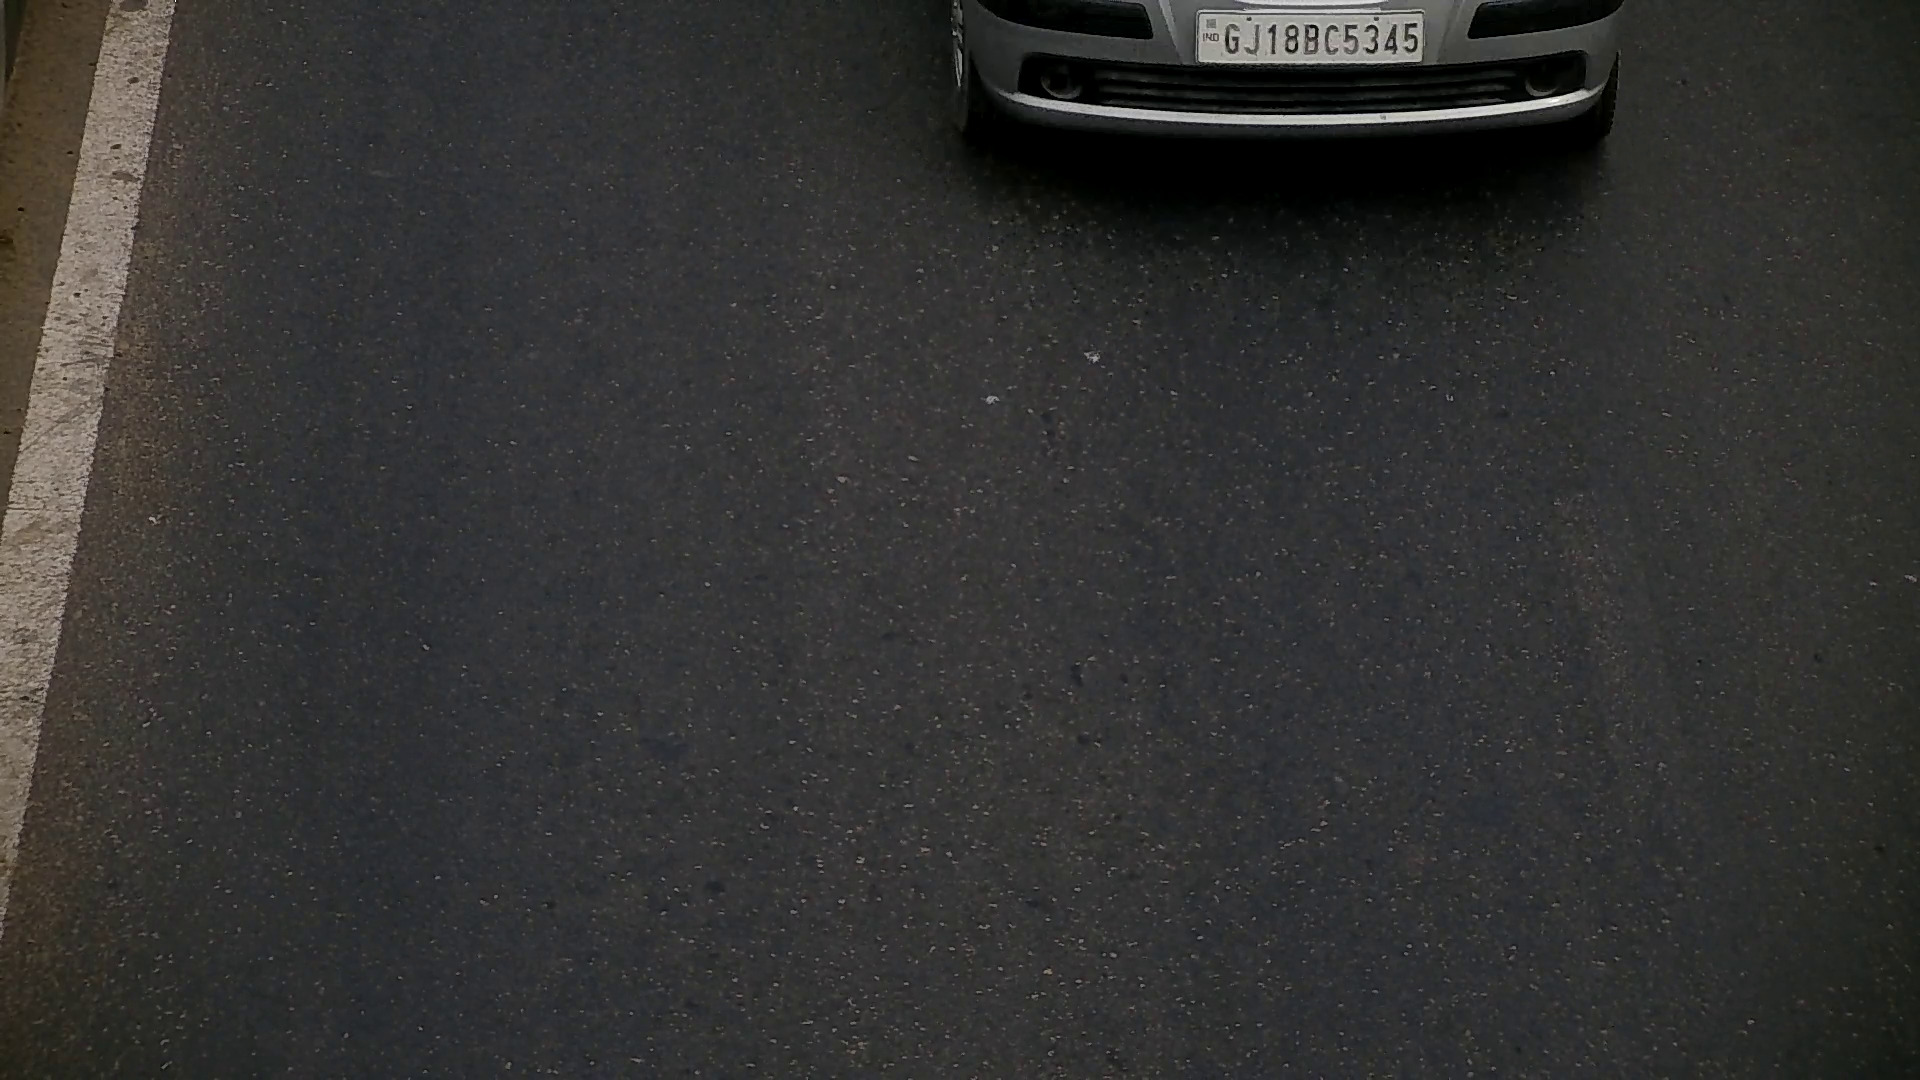numberplate: (1192, 7, 1430, 69)
